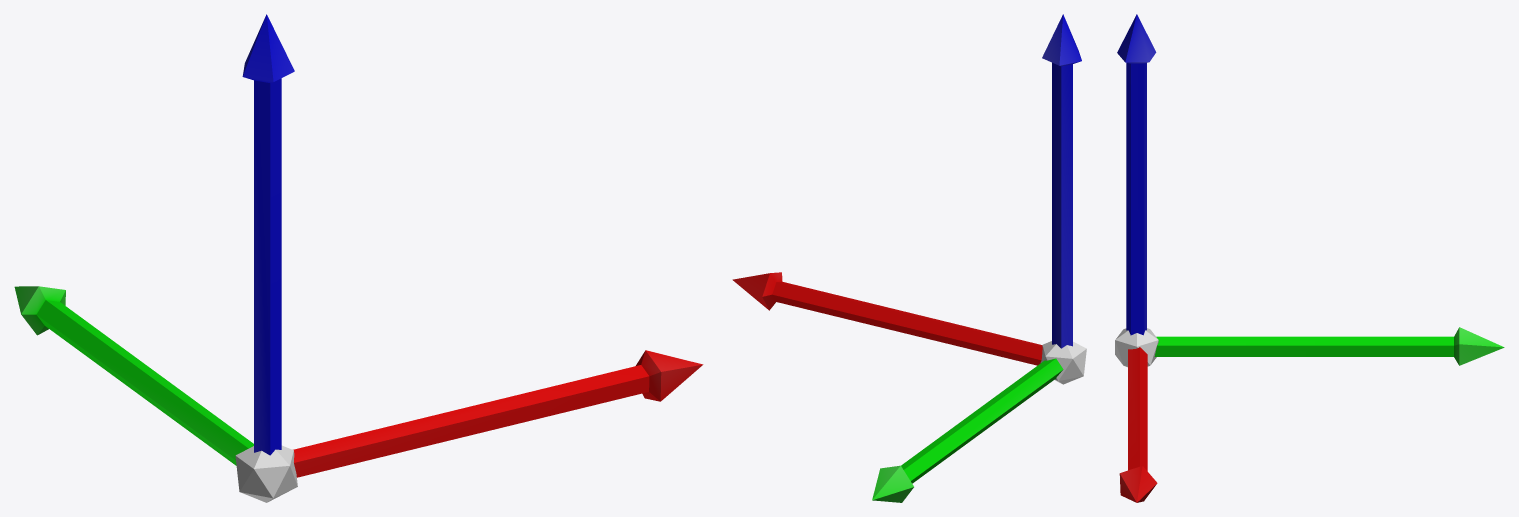
File: gizmo.glb
The picture shows the model from 3 angles, left to right: view 1: azimuth 30°, elevation 25°; view 2: azimuth 150°, elevation 25°; view 3: azimuth 270°, elevation 25°; orthographic projection. The views are drawn at different scales.
Visible parts, largest first — view 1: ArrowZ, ArrowX, ArrowY, Sphere; view 2: ArrowZ, ArrowX, ArrowY, Sphere; view 3: ArrowY, ArrowZ, ArrowX, Sphere.
Boxes of the visible parts, box(x1,y1,x2,y2) form: ArrowZ: box(242, 14, 294, 455); ArrowX: box(293, 350, 703, 477); ArrowY: box(14, 286, 253, 465); Sphere: box(235, 445, 297, 502); ArrowZ: box(1042, 14, 1081, 348); ArrowX: box(732, 272, 1042, 365); ArrowY: box(872, 358, 1063, 502); Sphere: box(1040, 341, 1086, 384); ArrowY: box(1154, 327, 1504, 365); ArrowZ: box(1117, 14, 1156, 335); ArrowX: box(1119, 347, 1157, 502); Sphere: box(1115, 328, 1158, 367).
Size of the model in its own units: 1.06 by 1.07 by 1.05.
